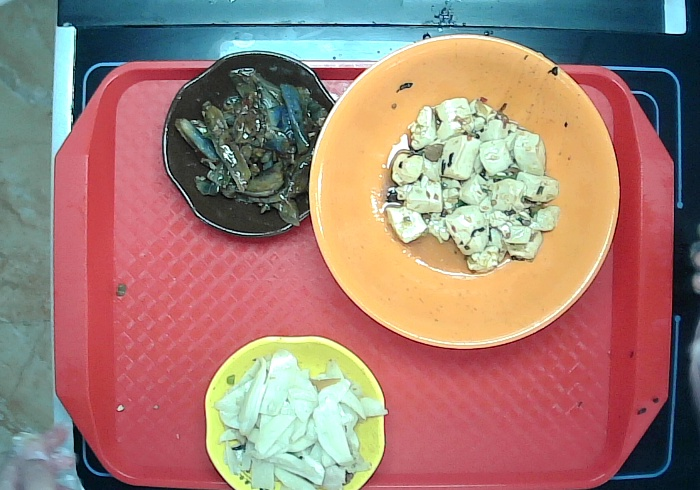YKMZ-Huang_Se_Ao_Bian_Wan: (202, 331, 387, 490)
YKMZ-Ju_Se_Tang_Wan: (308, 33, 621, 350)
YKMZ-Ka_Fei_Ao_Bian_Wan: (161, 48, 335, 238)
